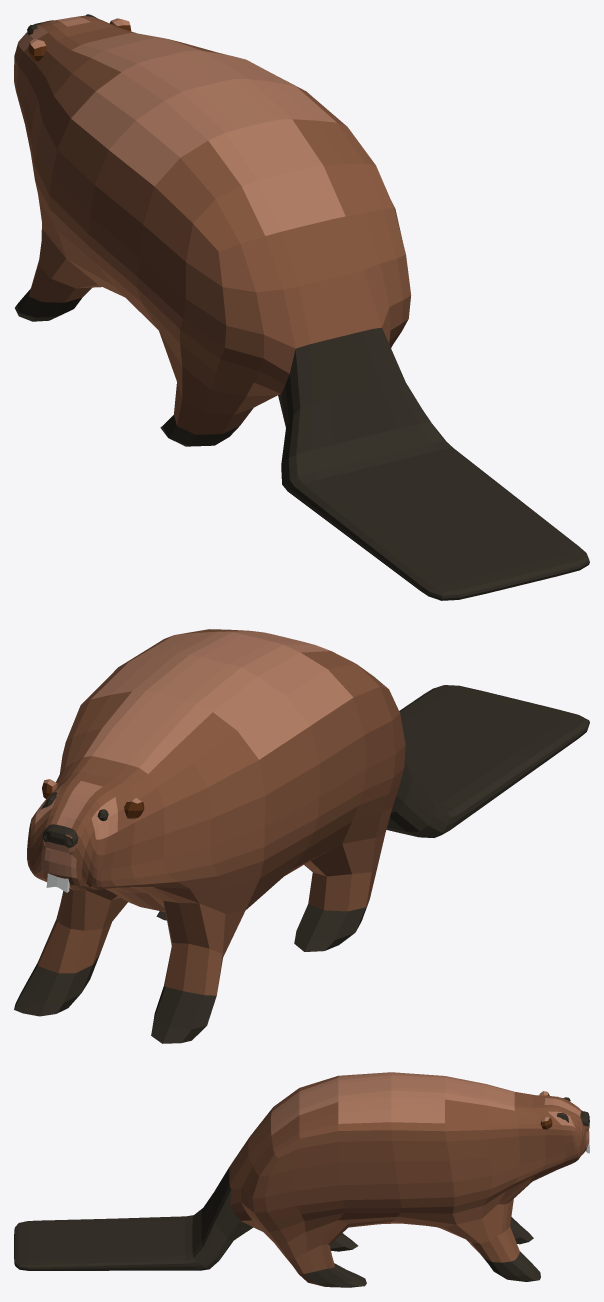
File: finalbeaver (1).fbx
The picture shows the model from 3 angles, top to bottom: view 1: azimuth 30°, elevation 25°; view 2: azimuth 150°, elevation 25°; view 3: azimuth 270°, elevation 25°; orthographic projection. The views are drawn at different scales.
Visible parts, largest first — view 1: Cube; view 2: Cube; view 3: Cube.
Boxes of the visible parts, x1,y1,x2,y2 form: Cube: [14, 14, 589, 600]; Cube: [14, 629, 589, 1043]; Cube: [14, 1072, 589, 1287].
Bounding box in the file's own units: 235 × 315 × 893.
